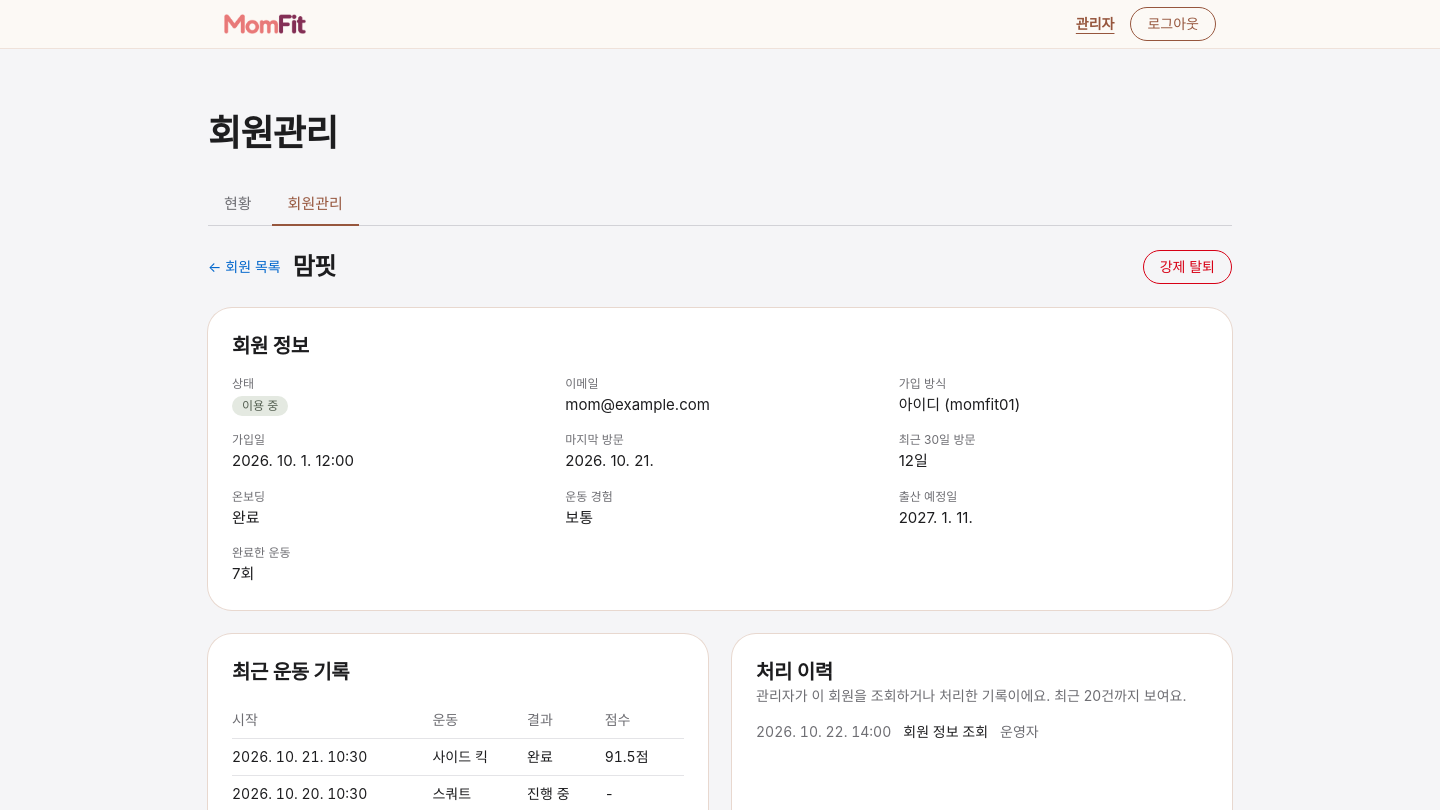
Test: 회원 상세 › 강제 탈퇴는 확인을 거친 뒤 처리하고 화면을 바꾼다
Expected: the element "회원 정보" is shown, [208,308,1232,610]
Click the button "강제 탈퇴". click: (1187, 266)
box: [1143,250,1232,284]
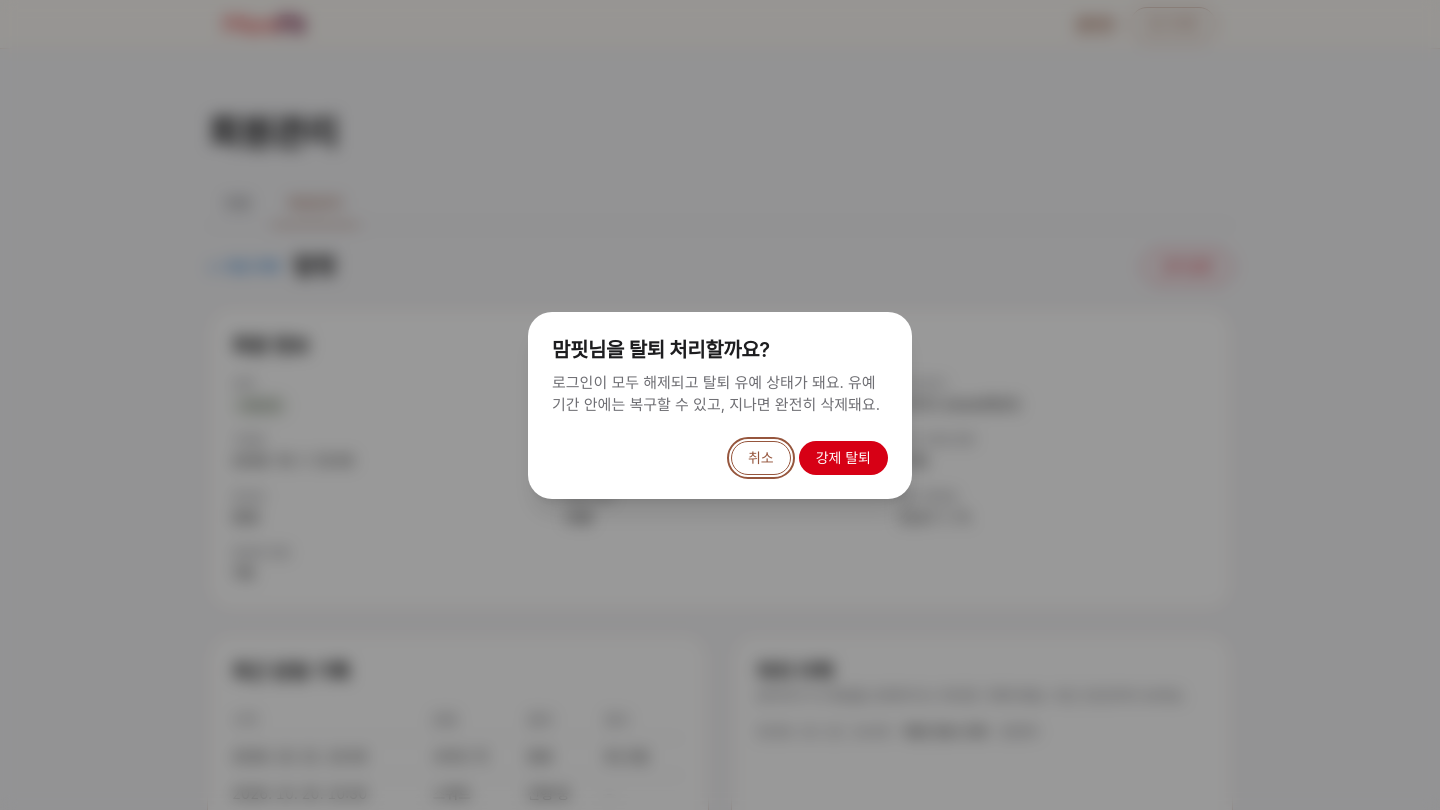
Now the heading "맘핏님을 탈퇴 처리할까요?" is shown, box [552,338,770,362]
Click the button "강제 탈퇴". click: (843, 458)
box: [799,440,888,474]
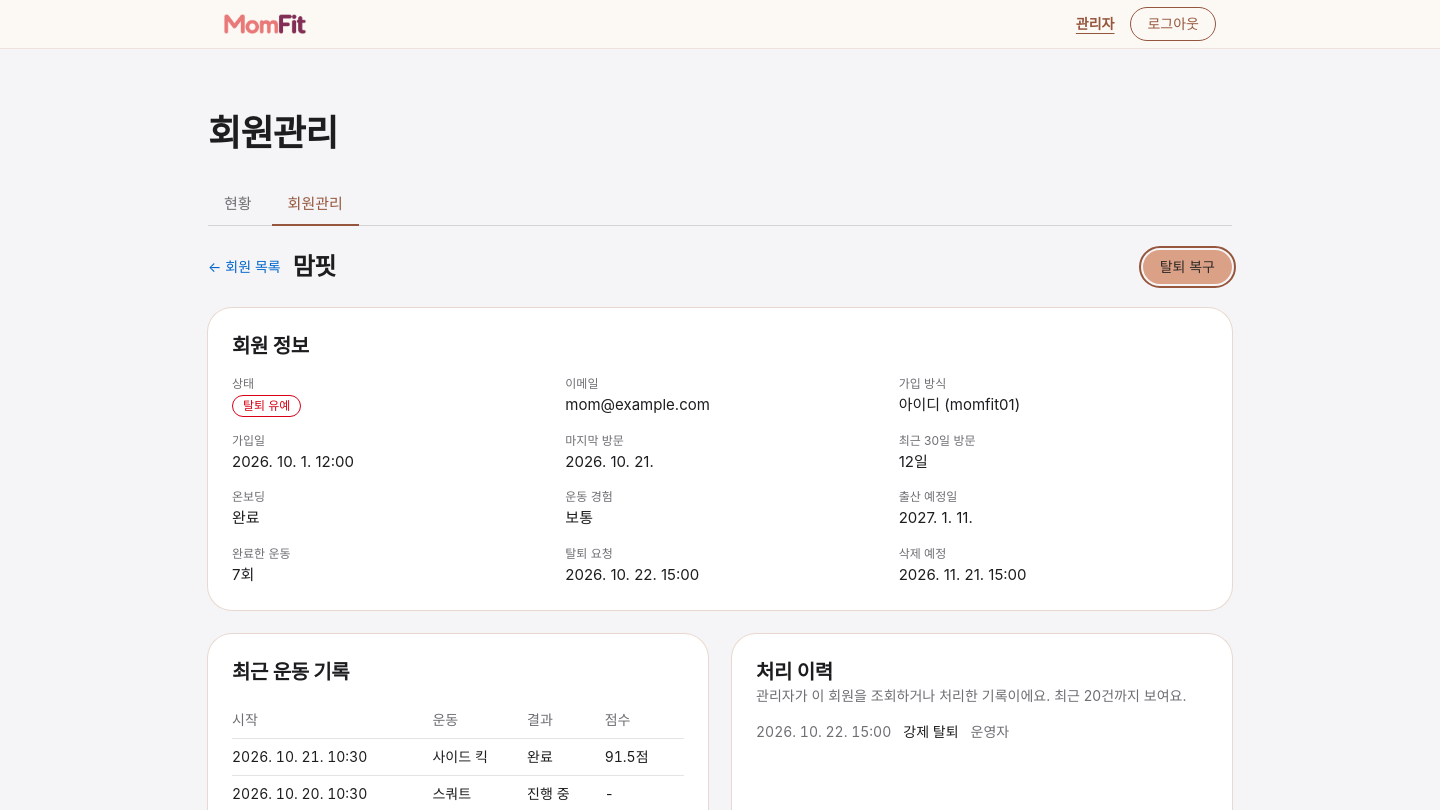
Now the button "탈퇴 복구" is shown, box [1143,250,1232,284]
Now the text "강제 탈퇴" is shown, box [903,722,959,742]
